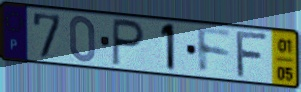0: (68, 14, 97, 65)
1: (158, 23, 177, 74)
7: (31, 11, 63, 59)
F: (195, 26, 234, 76), (234, 31, 270, 80)
P: (111, 17, 147, 69)
